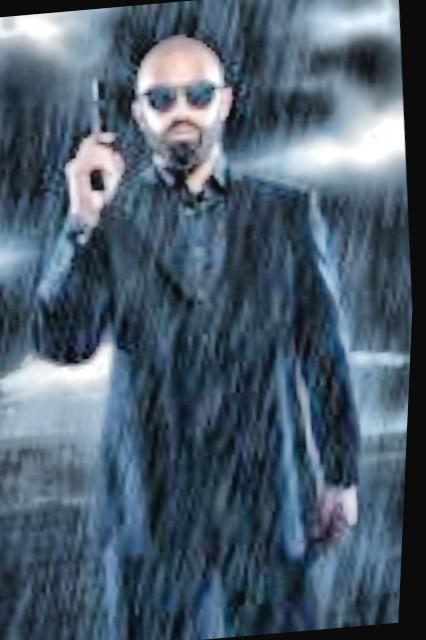pistol: (78, 70, 115, 192)
